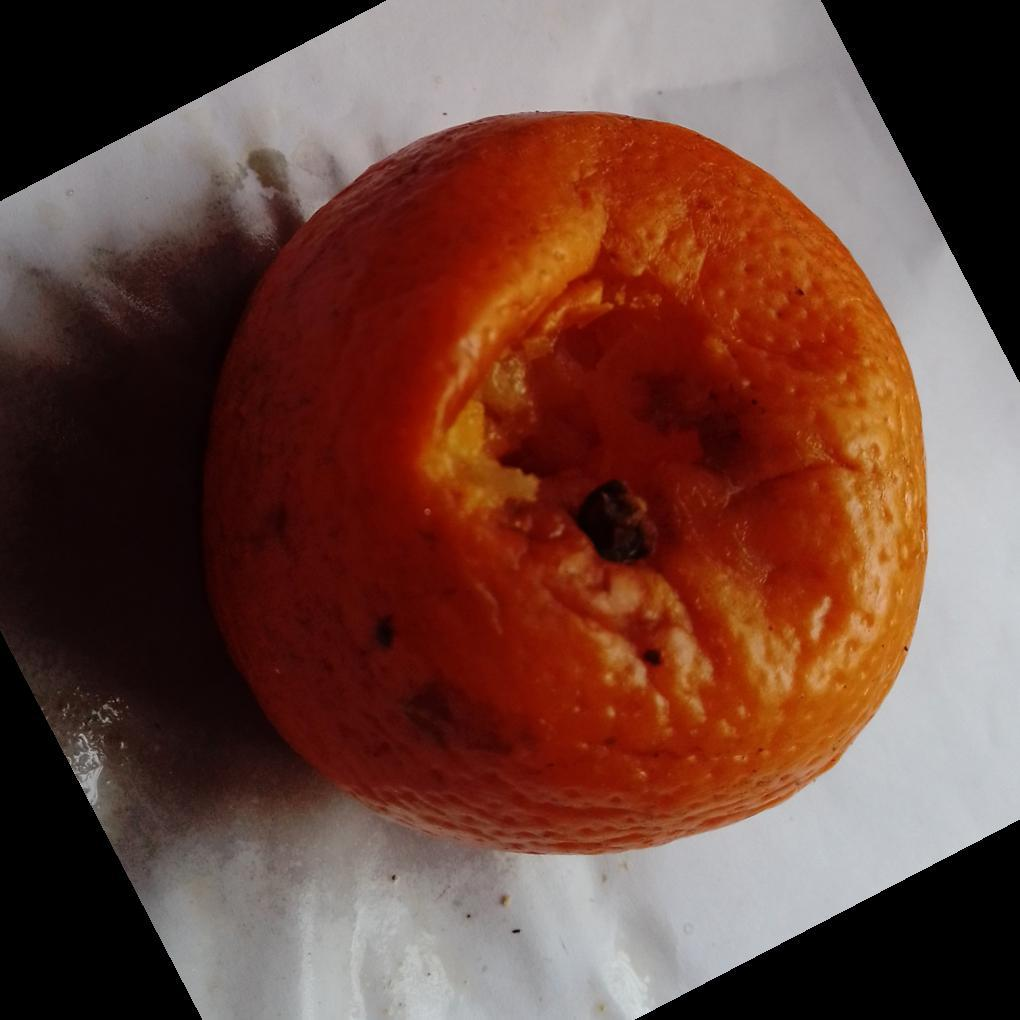FreshOrange: (195, 111, 929, 862)
